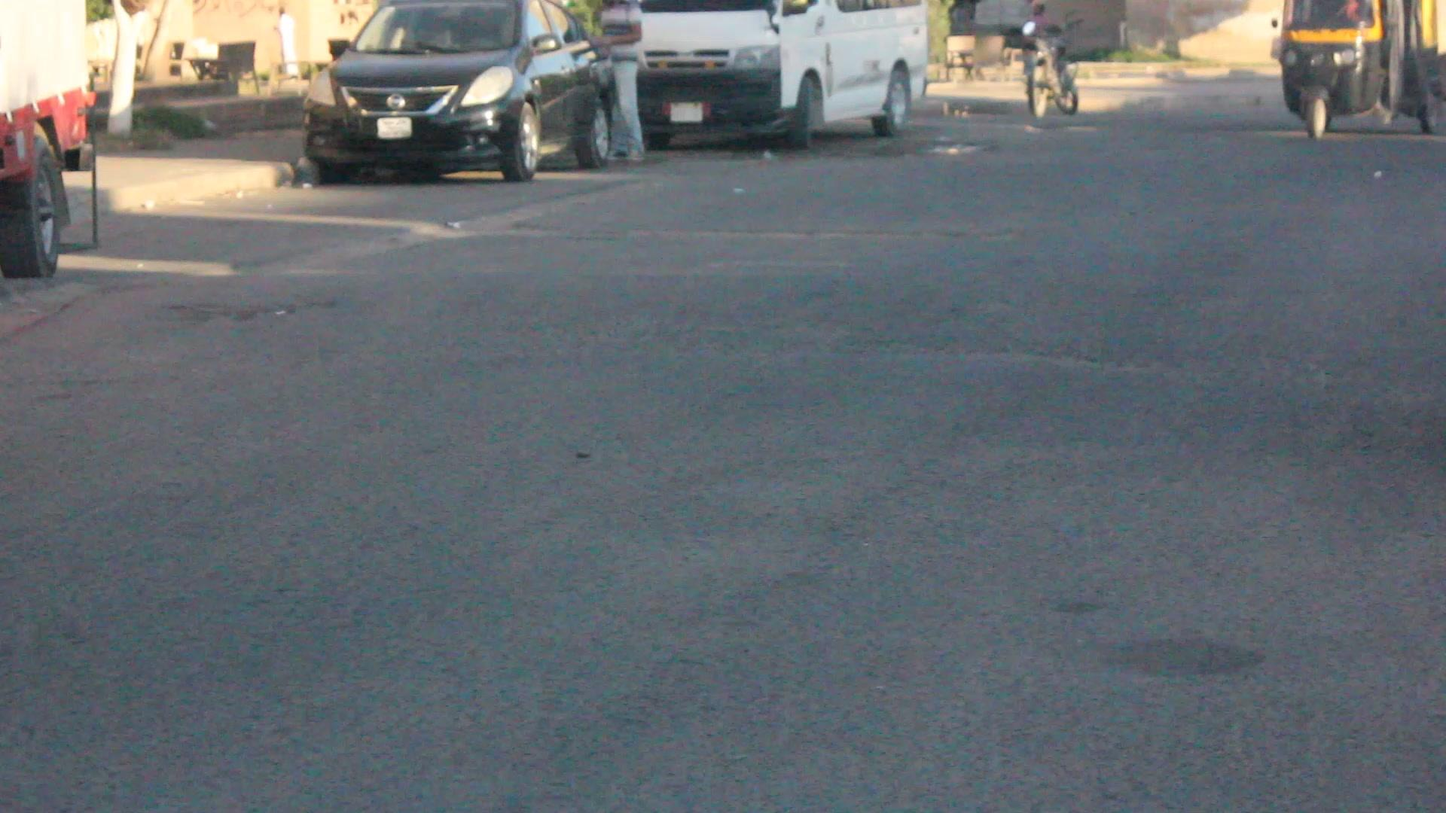Bump: (273, 263, 1446, 386)
